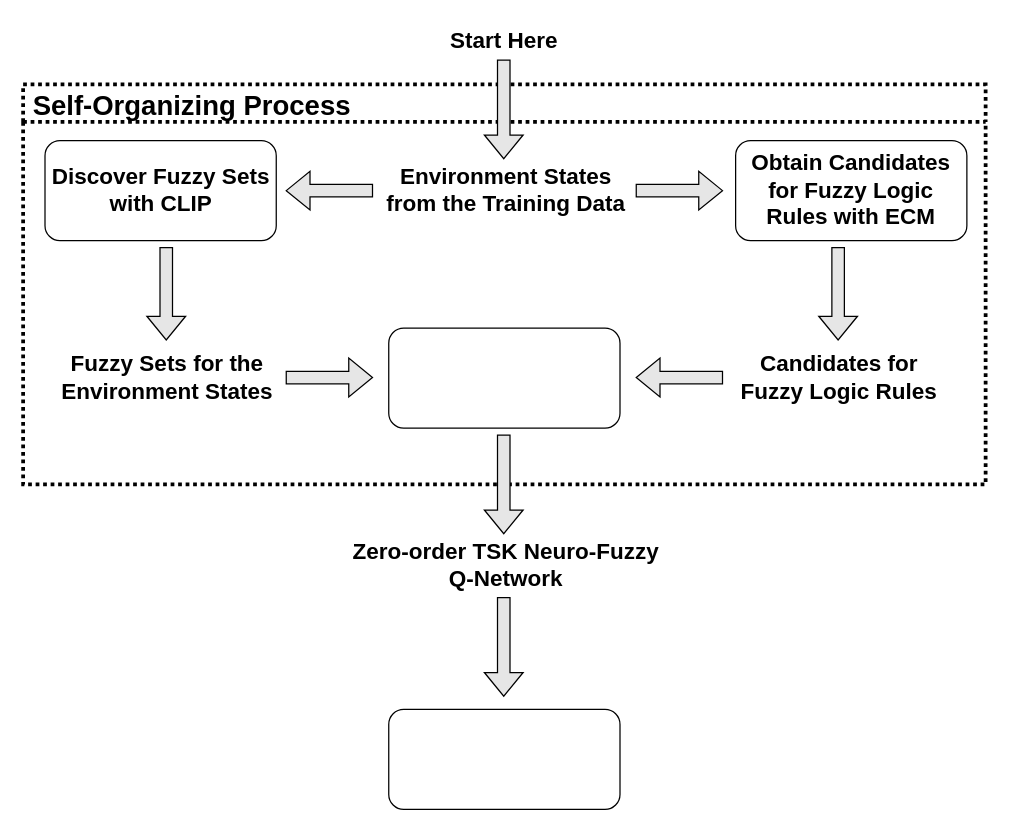
This 1009x831 diagram has some shape labels left out. The centre of each missing label's shape, as x and y in pixels:
"Generate Fuzzy Logic Rules with Wang-Mendel" goes at [504,377].
"Learn Fuzzy Logic Rules' Q-values with FCQL" goes at [504,758].
